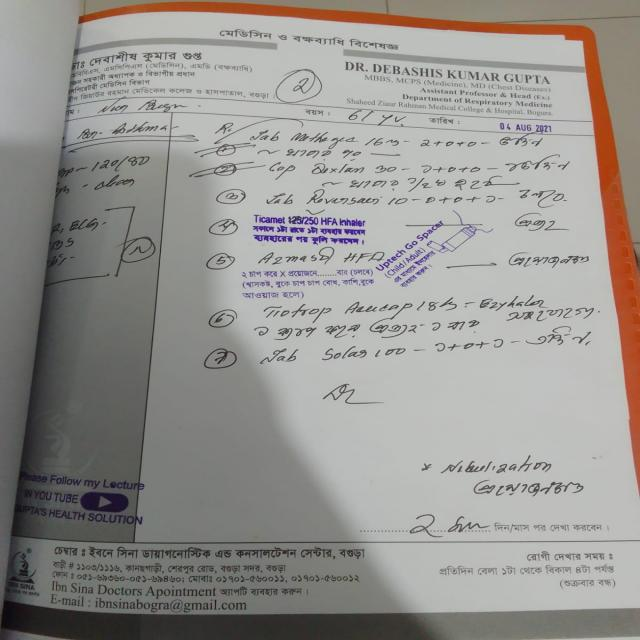Azmasol HFA: (250, 245, 390, 272)
Dexlan: (305, 160, 368, 178)
Methigic: (289, 126, 369, 152)
Reversair: (302, 185, 386, 213)
Solas: (316, 340, 376, 365)
Tiofoop Acecap: (256, 300, 418, 320)
